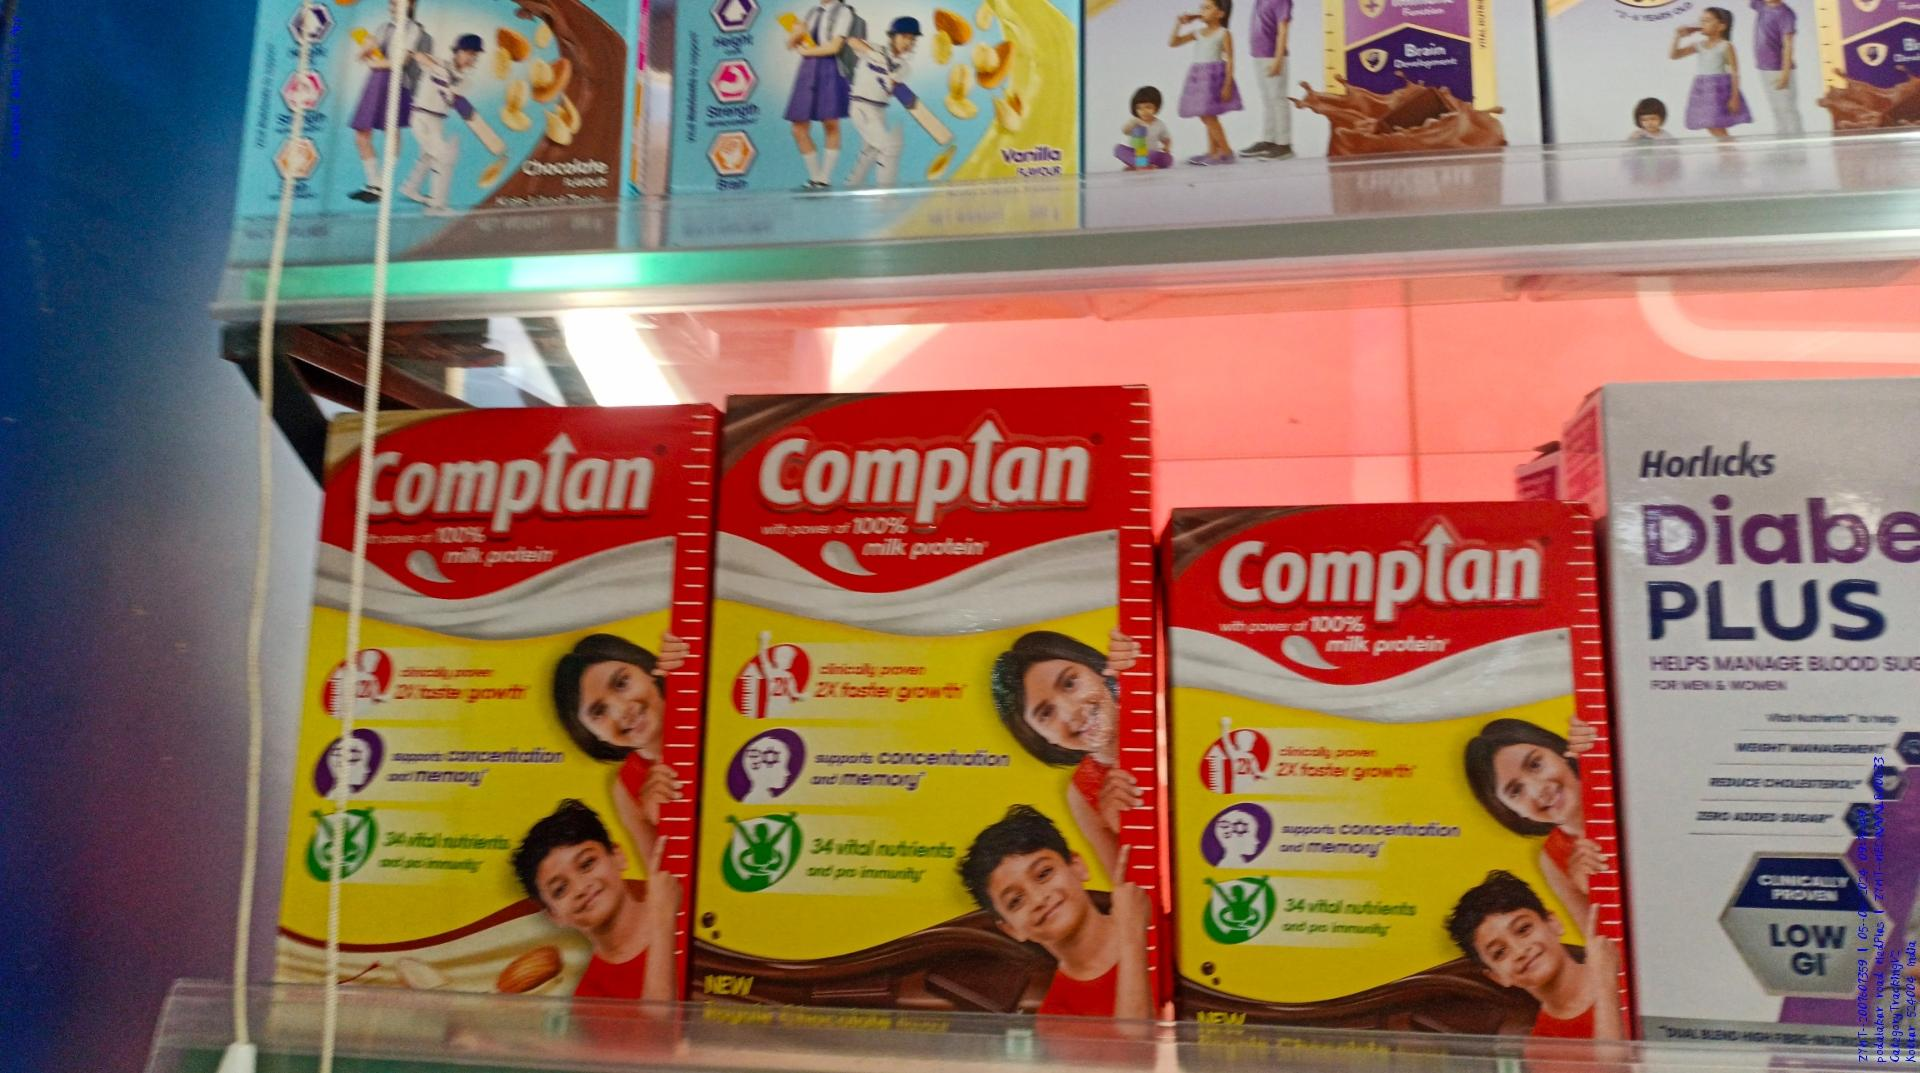COMPLAN_CHOCOLATE_200_GMS_PACK: (1176, 501, 1598, 1069)
COMPLAN_CHOCOLATE_500_GMS_PACK: (712, 390, 1145, 1055)
COMPLAN_KESAR_BADAM_500_GMS_PACK: (307, 409, 690, 1035)
